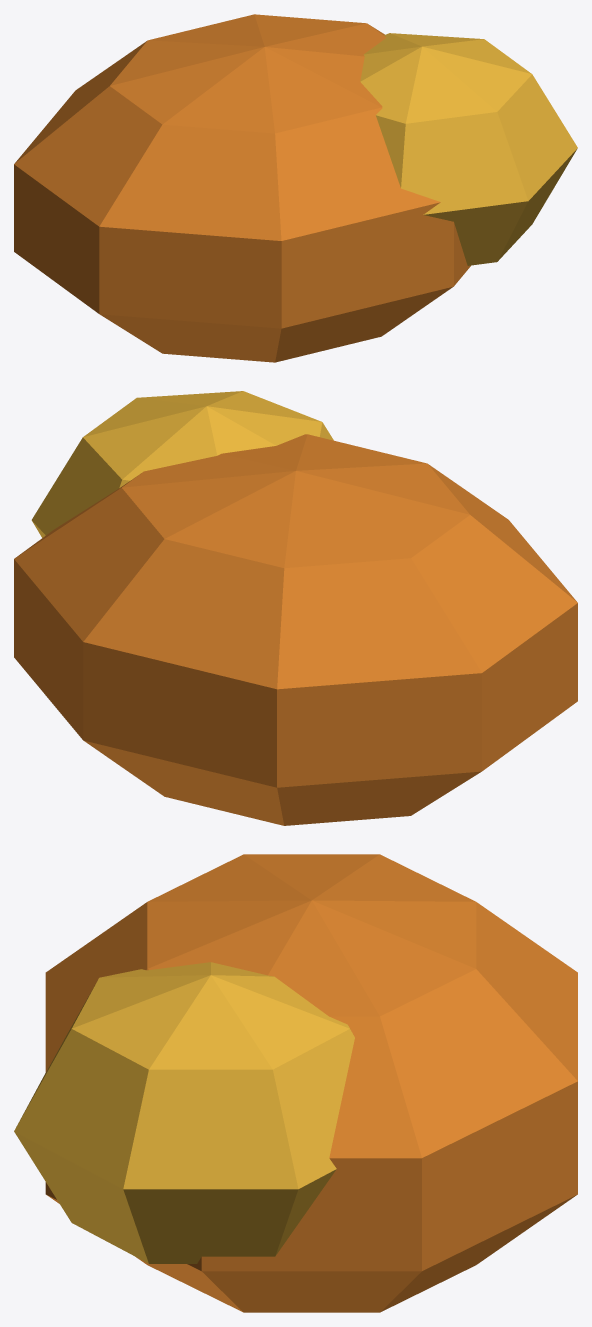
File: bush_autumn.glb
3 views of the same model, one above another, from view 1: azimuth 30°, elevation 25°; view 2: azimuth 150°, elevation 25°; view 3: azimuth 270°, elevation 25° (orthographic). The views are drawn at different scales.
Visible parts, largest first — view 1: bush_autumn; view 2: bush_autumn; view 3: bush_autumn.
Boxes of the visible parts, x1,y1,x2,y2 form: bush_autumn: (14, 14, 577, 362); bush_autumn: (14, 391, 577, 825); bush_autumn: (14, 854, 577, 1312).
Size of the model in its own units: 1.33 by 0.8 by 1.12.
